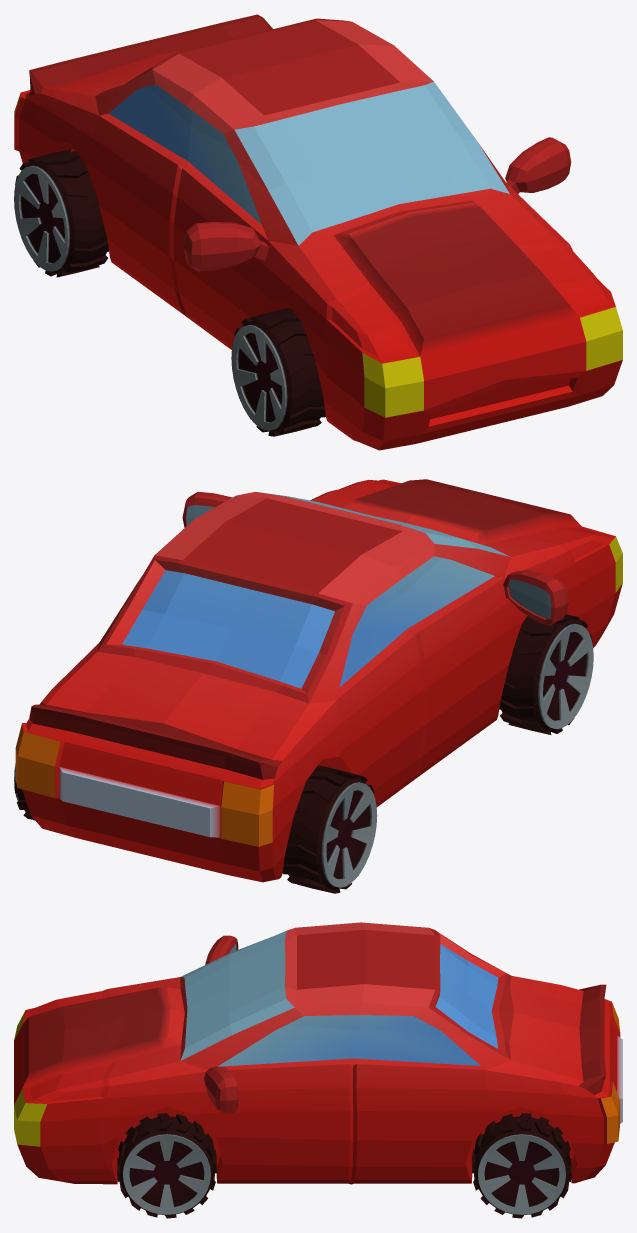
The model's file is машинка 1.fbx.
3 renders of one model, top to bottom at view 1: azimuth 30°, elevation 25°; view 2: azimuth 150°, elevation 25°; view 3: azimuth 270°, elevation 25°, orthographic. The views are drawn at different scales.
Parts seen in each view (by area): view 1: Car1, Cylinder.001, Cylinder, Zerk1; view 2: Car1, Cylinder.001, Cylinder, Zerk1; view 3: Car1, Cylinder.003, Cylinder.002, Zerk1.
Part boxes in pixels (x1,y1,x2,y2): Car1: [14, 14, 622, 450]; Cylinder.001: [14, 149, 108, 277]; Cylinder: [231, 308, 325, 436]; Zerk1: [183, 137, 571, 271]; Car1: [15, 479, 622, 882]; Cylinder.001: [282, 765, 377, 893]; Cylinder: [499, 614, 593, 734]; Zerk1: [182, 491, 568, 625]; Car1: [14, 922, 622, 1184]; Cylinder.003: [117, 1113, 216, 1218]; Cylinder.002: [472, 1113, 571, 1218]; Zerk1: [204, 935, 238, 1113].
Size of the model in its own units: 355 by 218 by 601.
